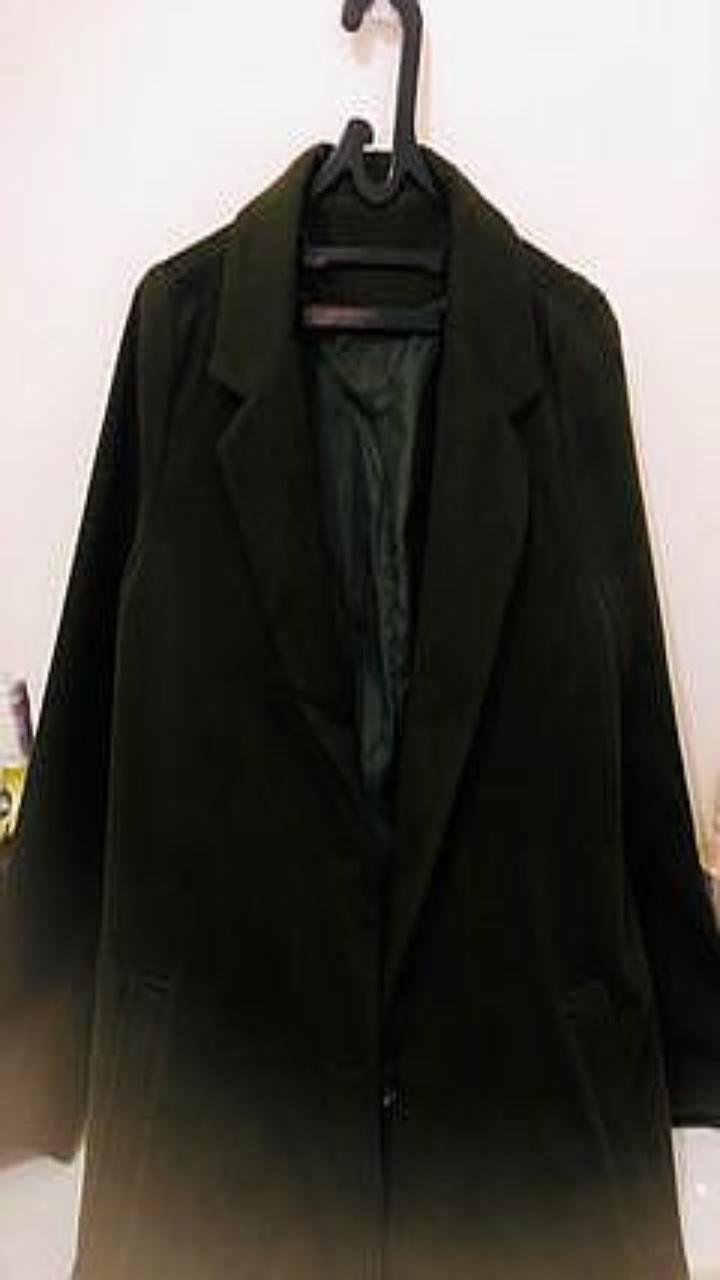Coat: (0, 144, 719, 1279)
